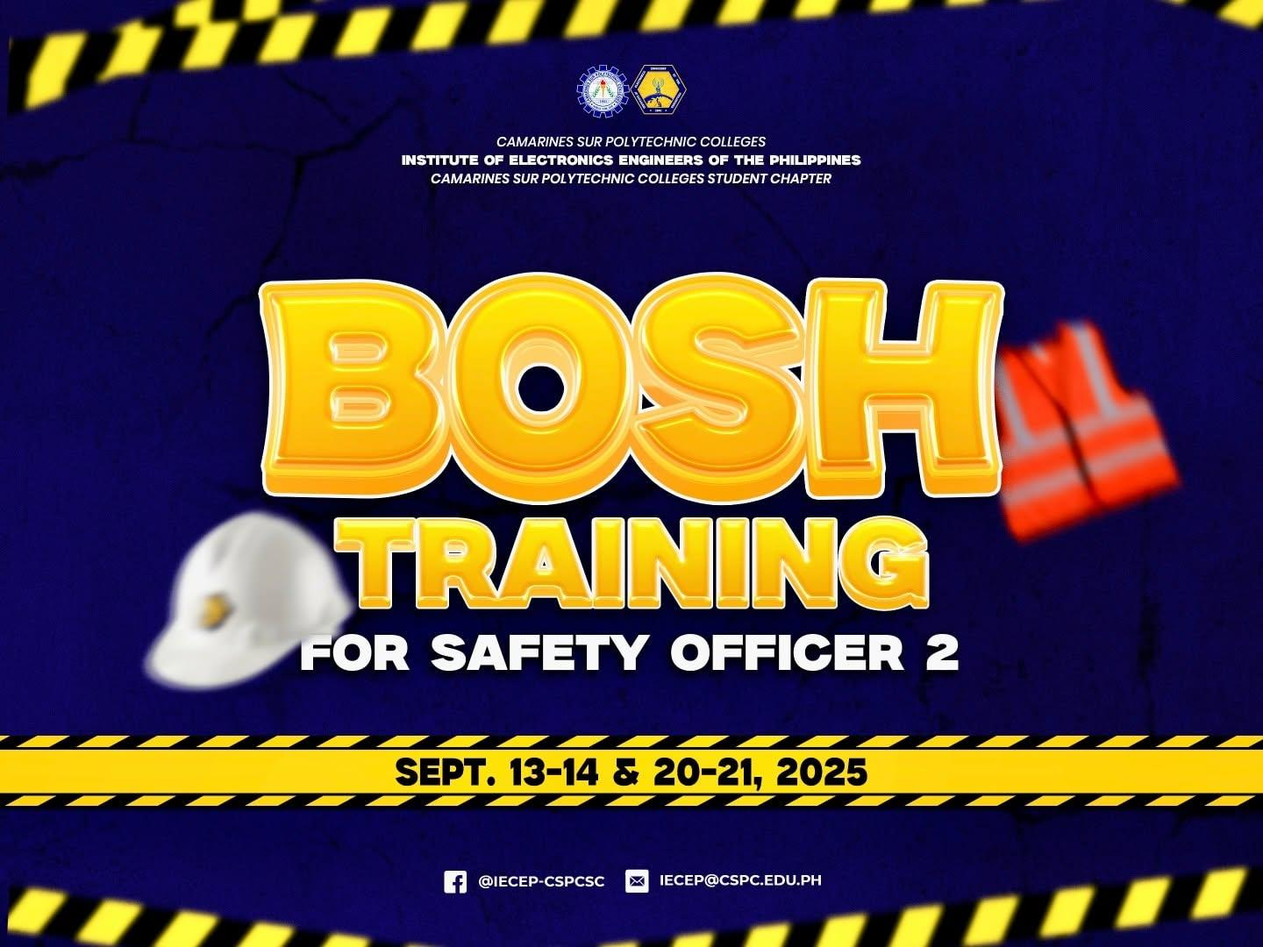embellishment: (0, 0, 1262, 125), (0, 728, 1262, 820), (0, 857, 1262, 946), (996, 316, 1183, 542), (145, 511, 356, 693)
logo: (570, 59, 633, 124), (630, 58, 689, 122), (439, 863, 472, 898), (621, 864, 653, 897)
text: (247, 249, 1020, 683), (395, 130, 875, 190), (388, 749, 875, 793), (654, 867, 827, 892), (475, 869, 608, 893)
underlay: (0, 1, 1262, 729), (0, 807, 1260, 946), (996, 909, 1262, 946), (0, 0, 206, 34)
